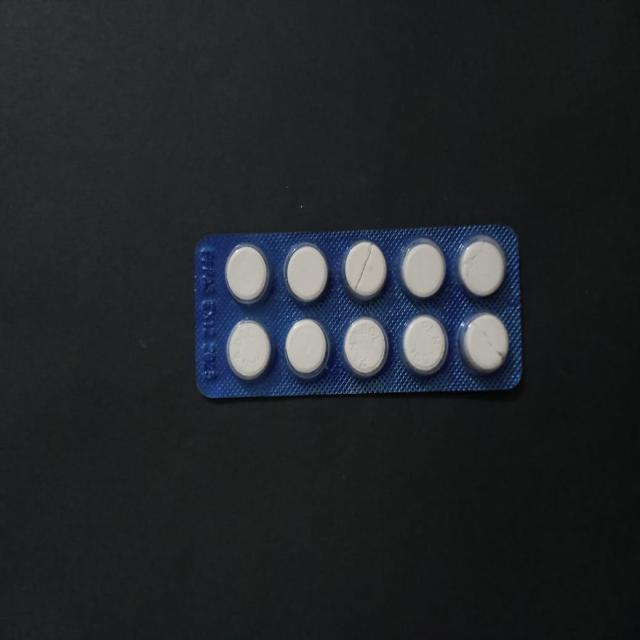defect: (458, 310, 512, 378), (340, 236, 390, 304)
